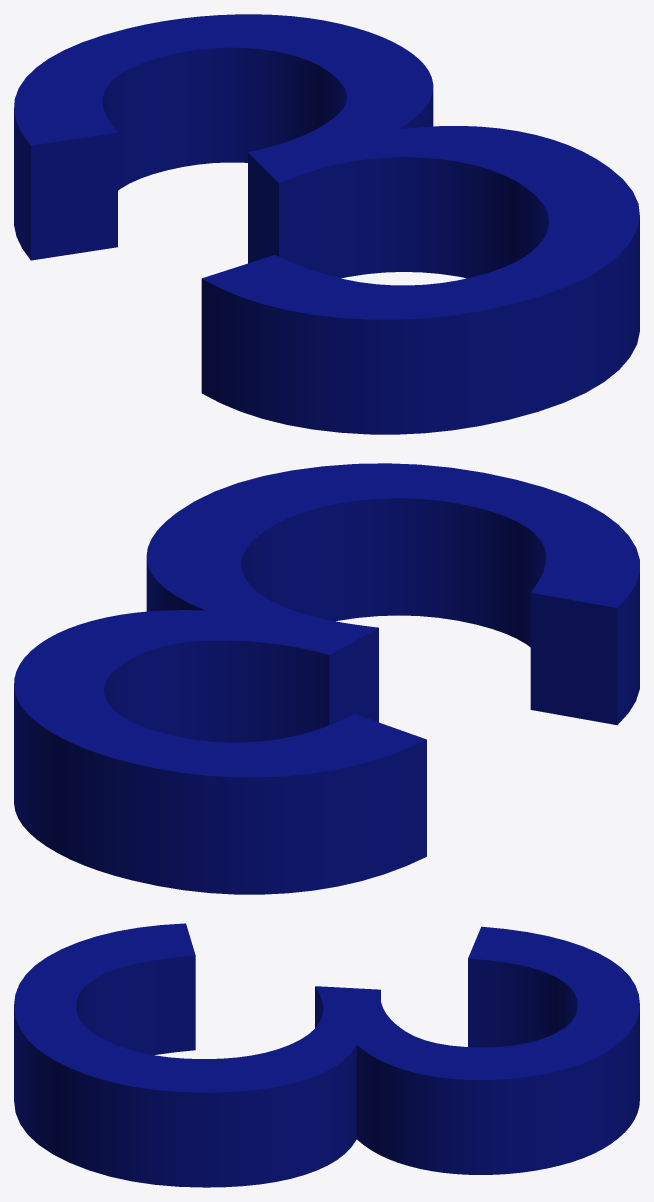
3 renders of one model, top to bottom at view 1: azimuth 30°, elevation 25°; view 2: azimuth 150°, elevation 25°; view 3: azimuth 270°, elevation 25°, orthographic. The views are drawn at different scales.
Parts seen in each view (by area): view 1: TextPlus055; view 2: TextPlus055; view 3: TextPlus055.
Part boxes in pixels (<box>): TextPlus055: <box>14,14,639,434</box>; TextPlus055: <box>14,463,639,894</box>; TextPlus055: <box>14,923,639,1187</box>.
Bounding box in the file's own units: 16.76 × 4.38 × 26.2.
